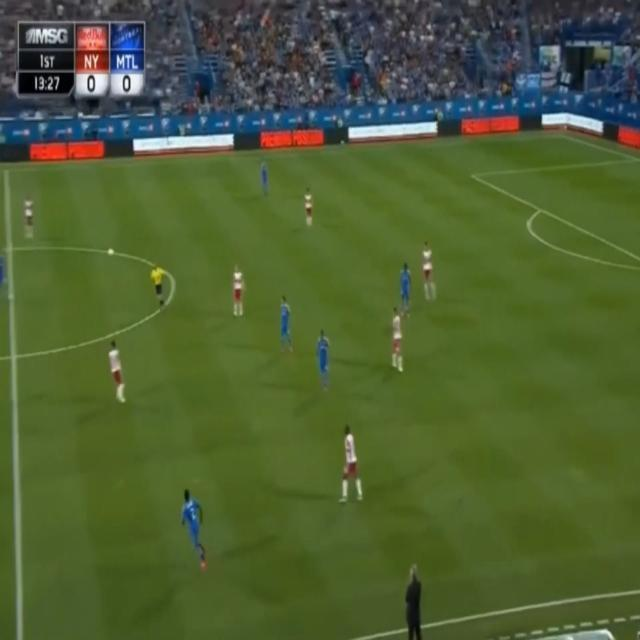football: (104, 249, 122, 260)
